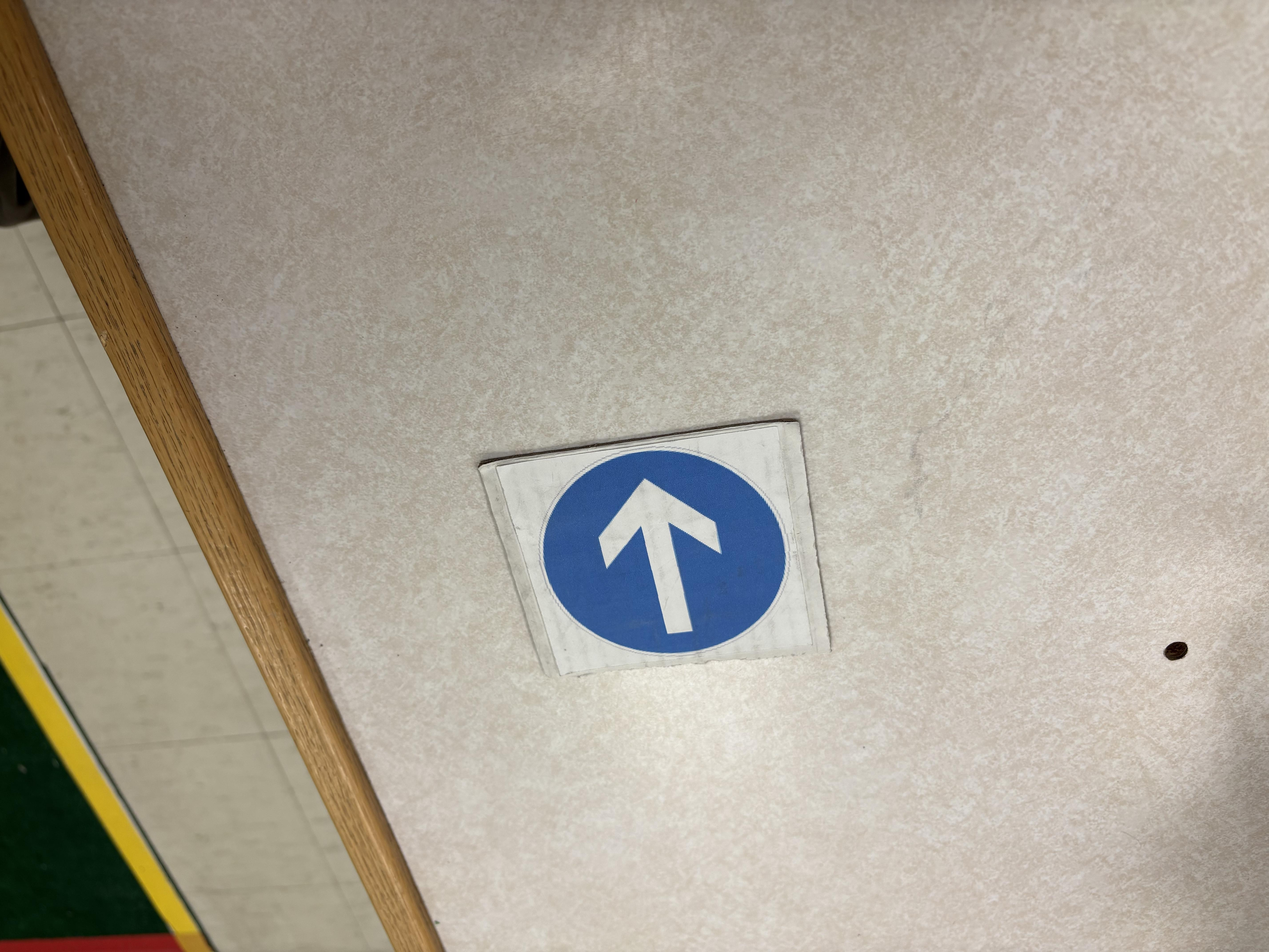Proceed Forward: (479, 424, 835, 681)
